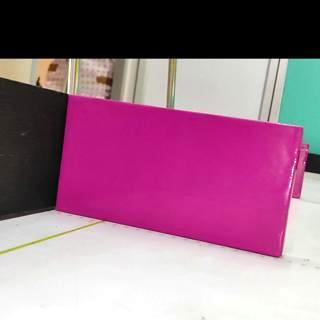xparking: (56, 97, 303, 257)
